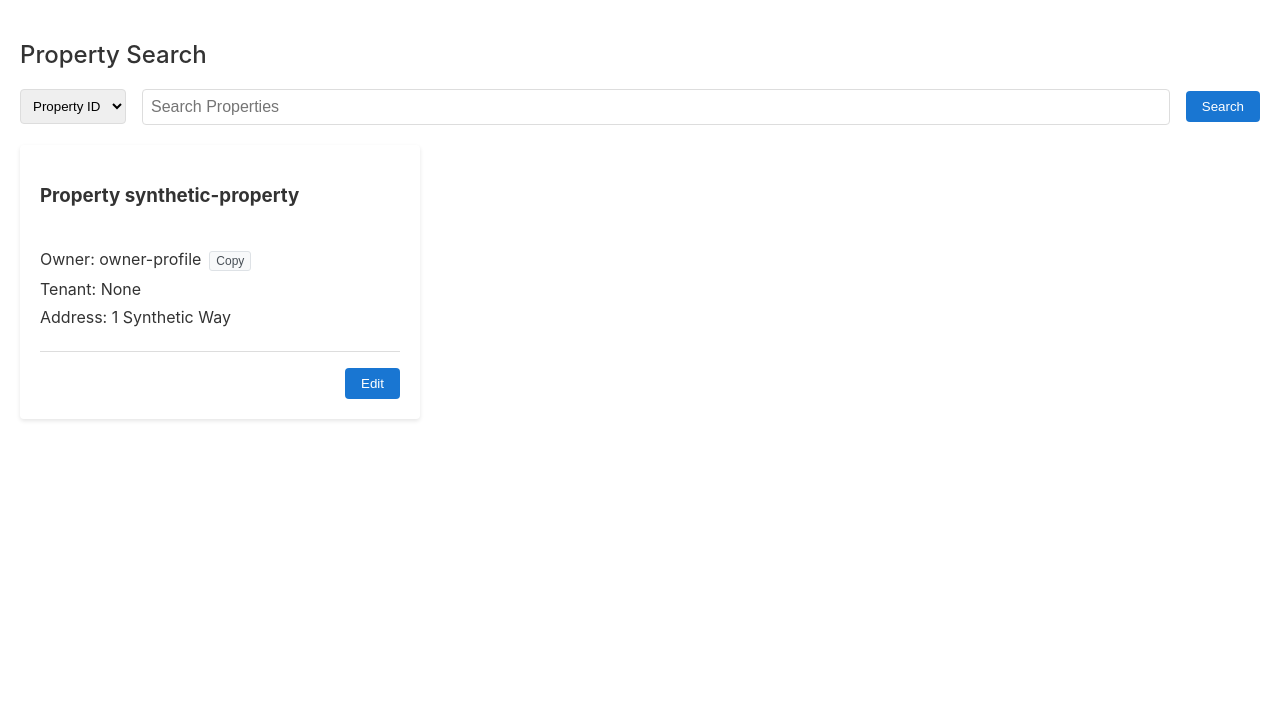
PropertyManager edits › BOARD updates relationships without owner and cannot edit the address
This screenshot has width=1280, height=720.
Click the button "Edit" at (372, 384), box top-left (345, 368), bottom-right (400, 399)
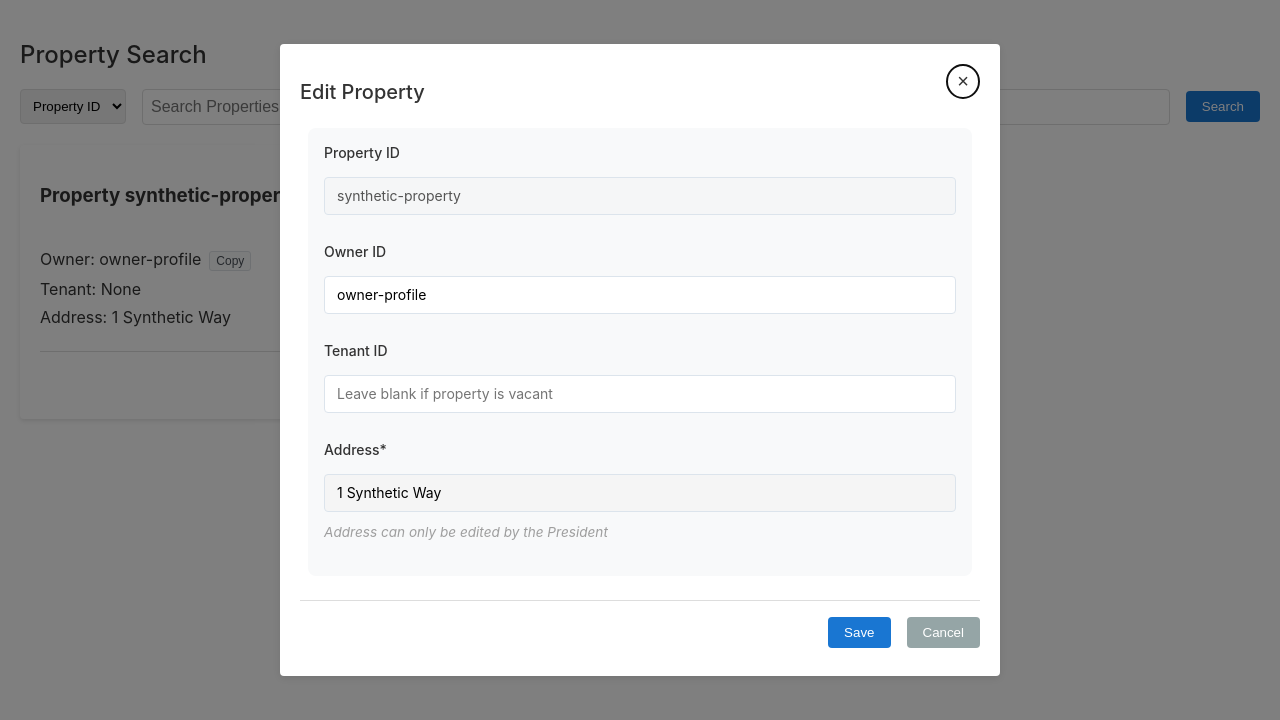
Replace the text in the field showing "owner-profile" below "Owner ID" with "new-owner-profile" at (640, 295), box top-left (324, 276), bottom-right (956, 314)
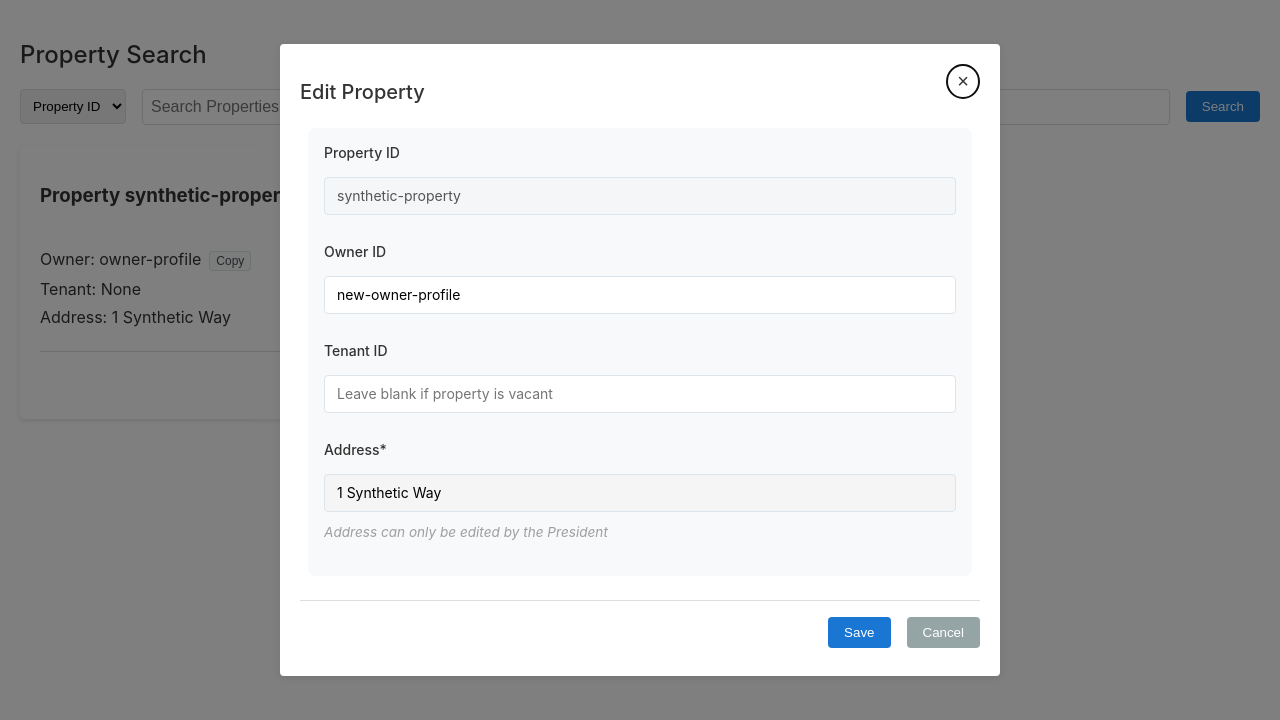
Click the button "Save" at (859, 632), box top-left (828, 617), bottom-right (890, 648)
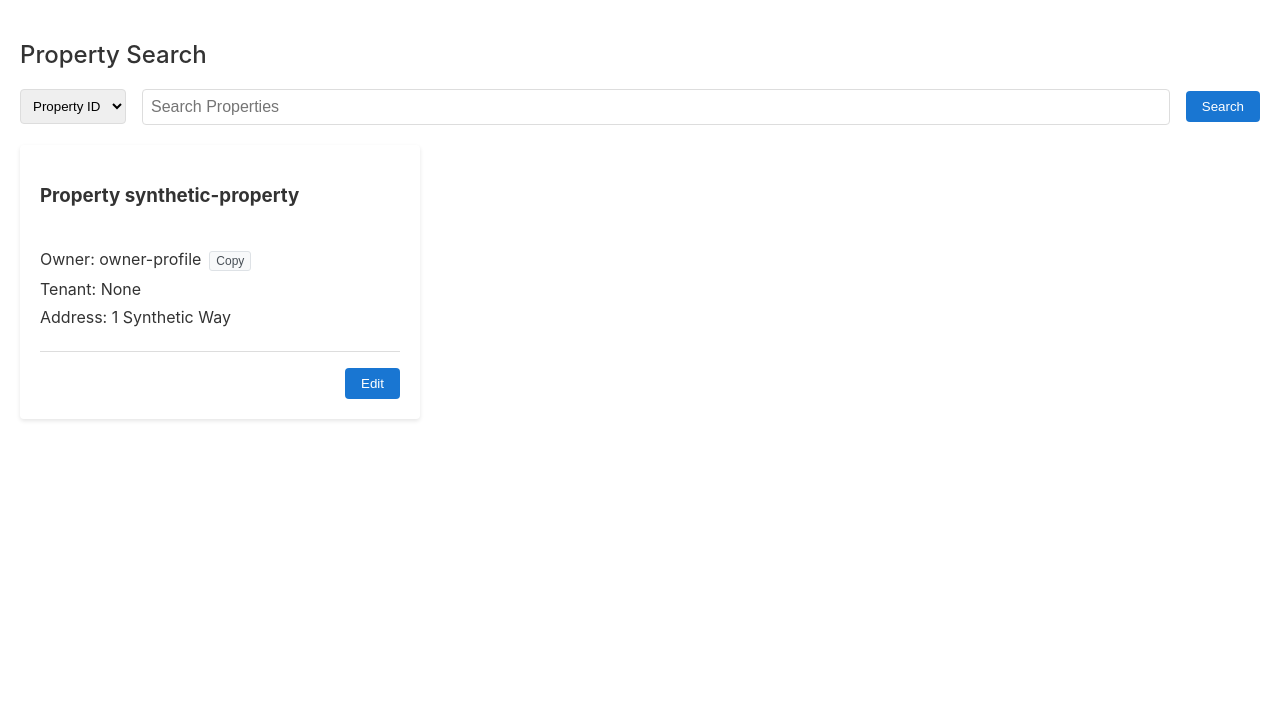
Expected: the button "Save" is gone
